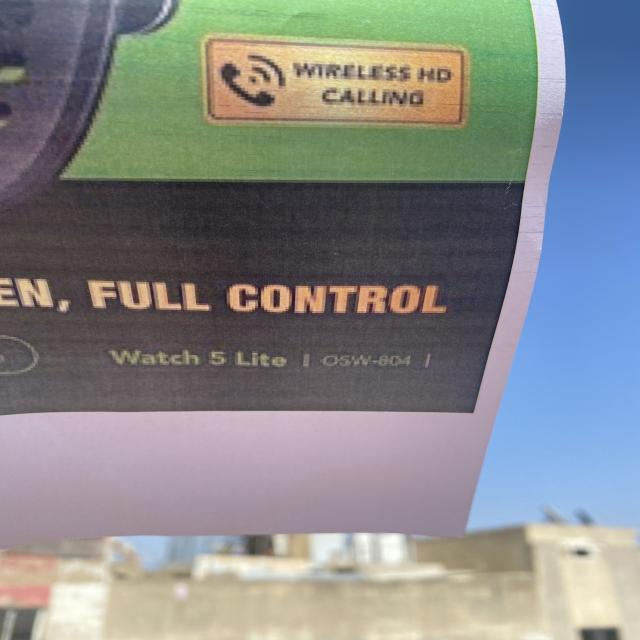Watch 5 Lite OSW-804: (108, 341, 437, 372)
